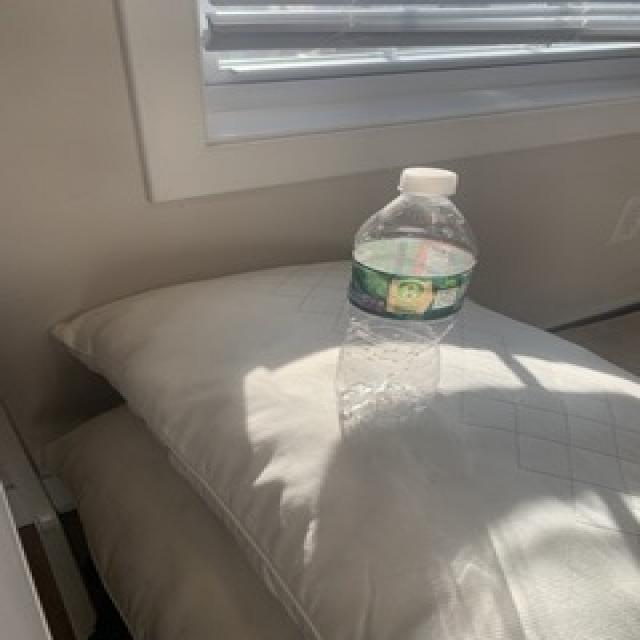water_bottle: (328, 162, 480, 431)
